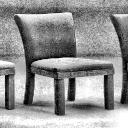chair_success: (9, 11, 123, 118)
